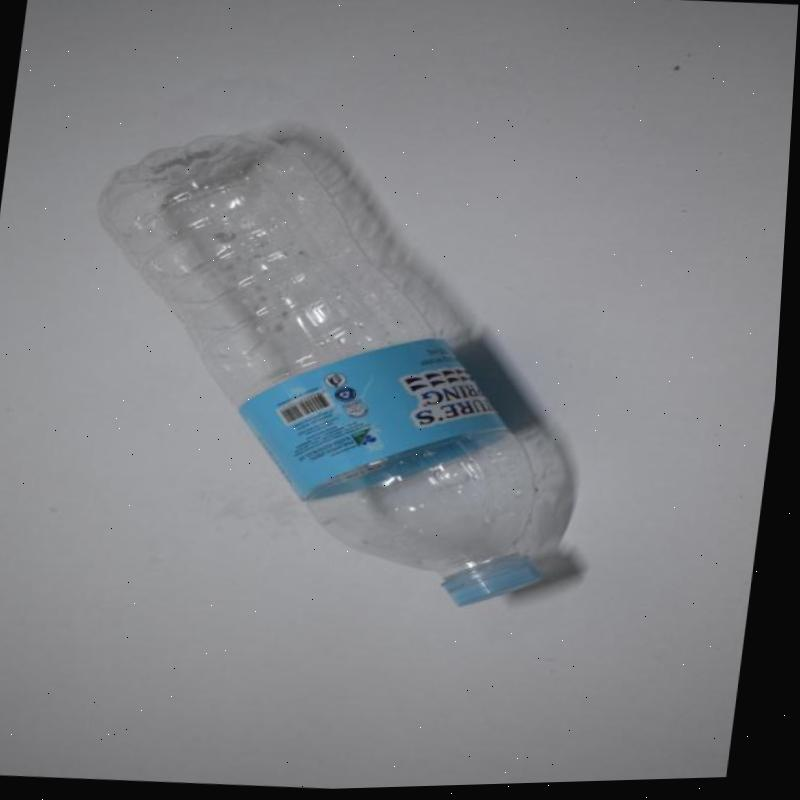botella: (56, 114, 600, 624)
